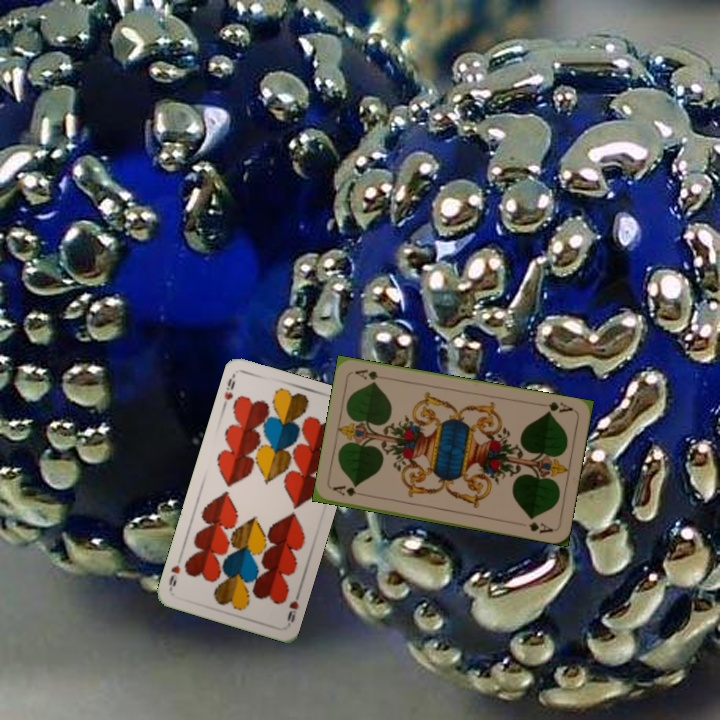GA: (329, 482, 369, 499), (542, 398, 575, 416)
H9: (283, 587, 303, 625), (219, 374, 238, 410)
